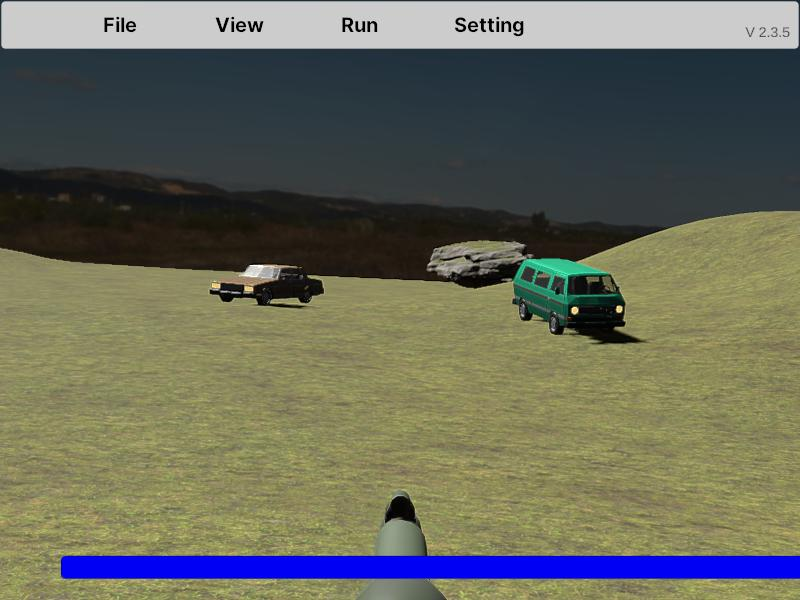car: (512, 260, 626, 336), (209, 263, 324, 306)
